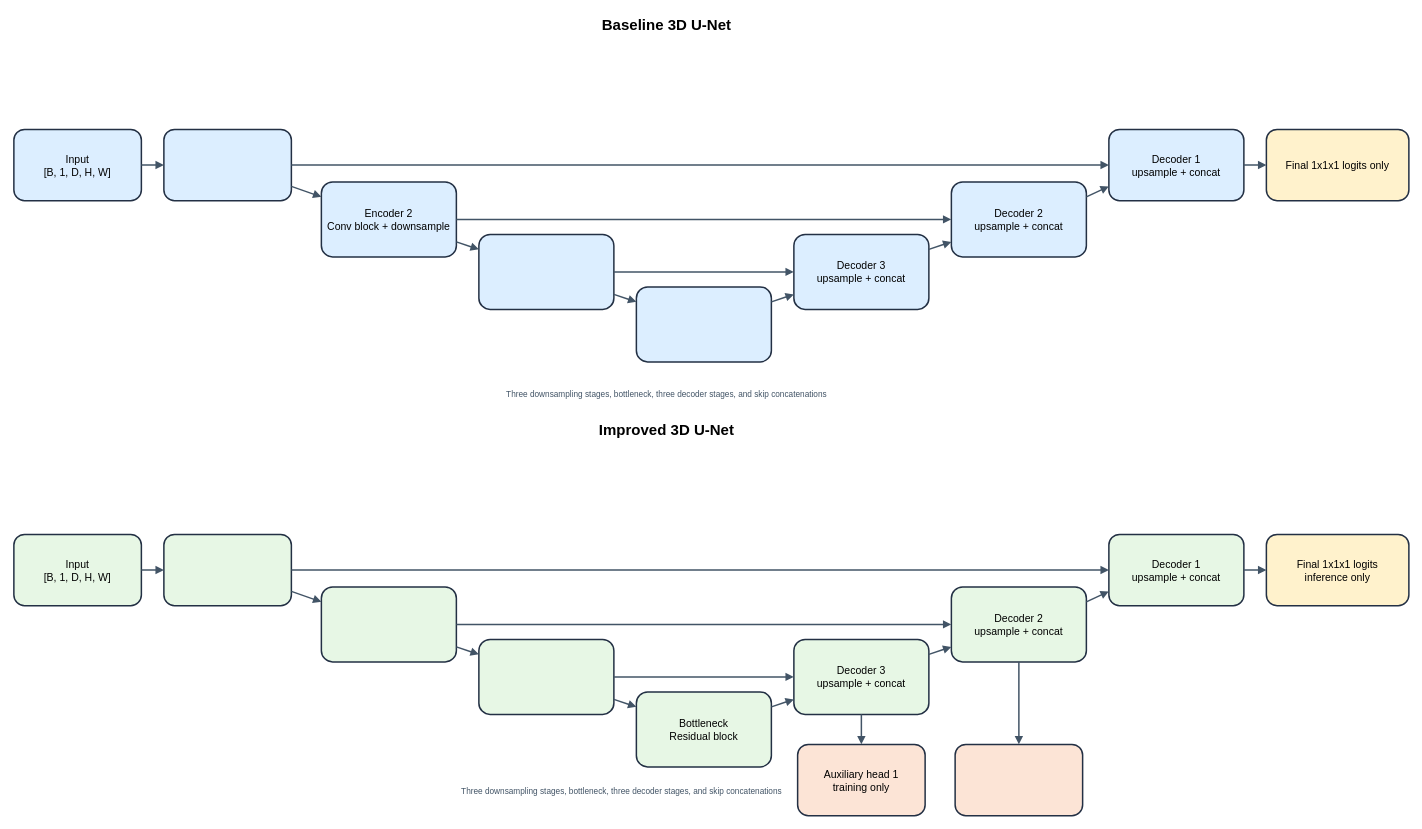
The diagram is 1422 pixels wide and 829 high, and some of its shapes have lost their labels. The shapes that lost their labels are listed below. From the top down, each one's box as (x1, y1, x2, y2) in pixels, then its label:
(163, 128, 292, 201): Encoder 1 Conv block
(478, 233, 614, 310): Encoder 3 Conv block + downsample
(635, 286, 772, 362): Bottleneck Conv block
(163, 533, 292, 606): Encoder 1 Residual block
(320, 586, 457, 662): Encoder 2 Residual block + downsample
(478, 638, 614, 715): Encoder 3 Residual block + downsample
(954, 743, 1083, 816): Auxiliary head 2 training only
